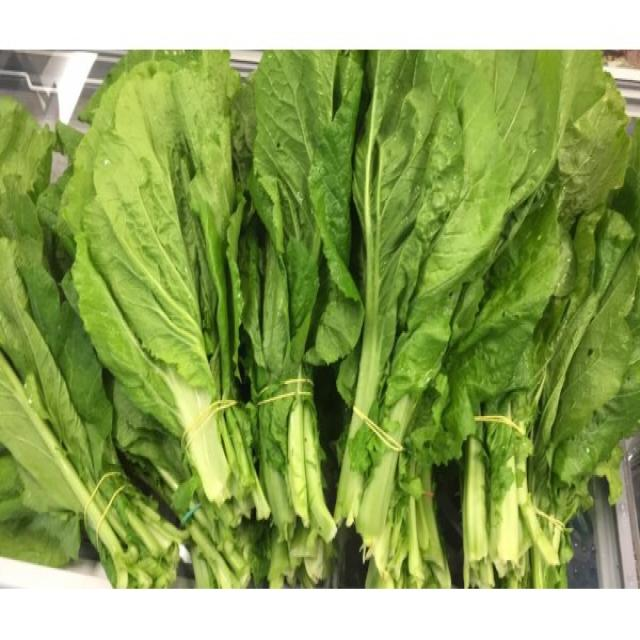NA: (254, 71, 473, 556), (469, 46, 640, 600), (61, 113, 266, 558)
